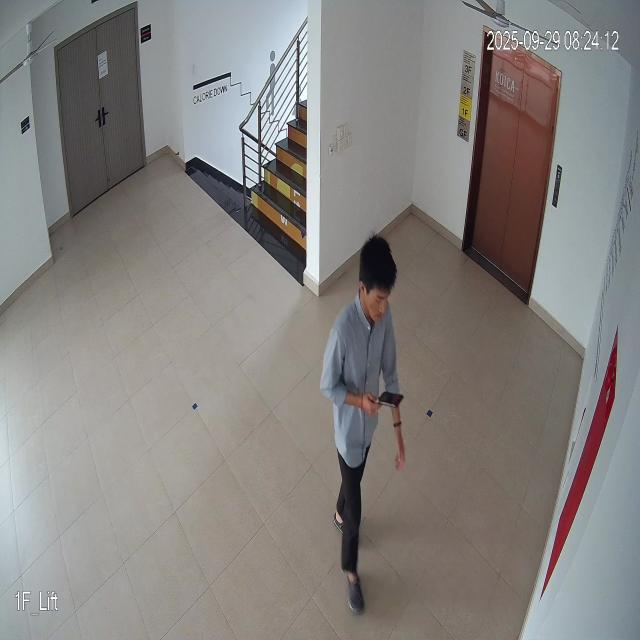face: (354, 231, 401, 329)
